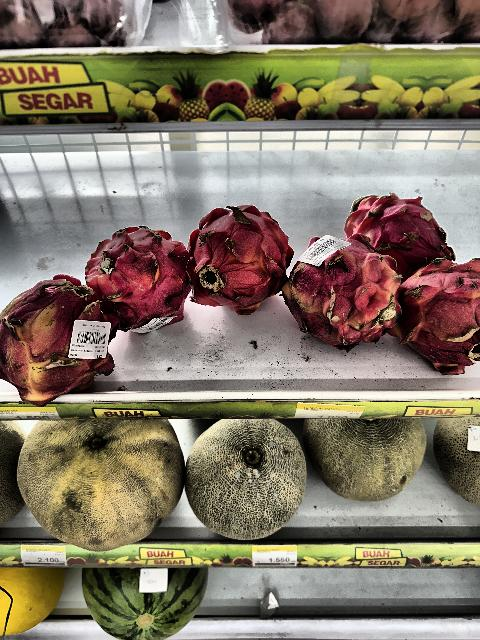buah-naga-belum-matang: (0, 272, 122, 403)
buah-naga-matang: (286, 222, 402, 356), (78, 221, 196, 333), (178, 200, 286, 306), (392, 253, 480, 375), (338, 190, 453, 266)
